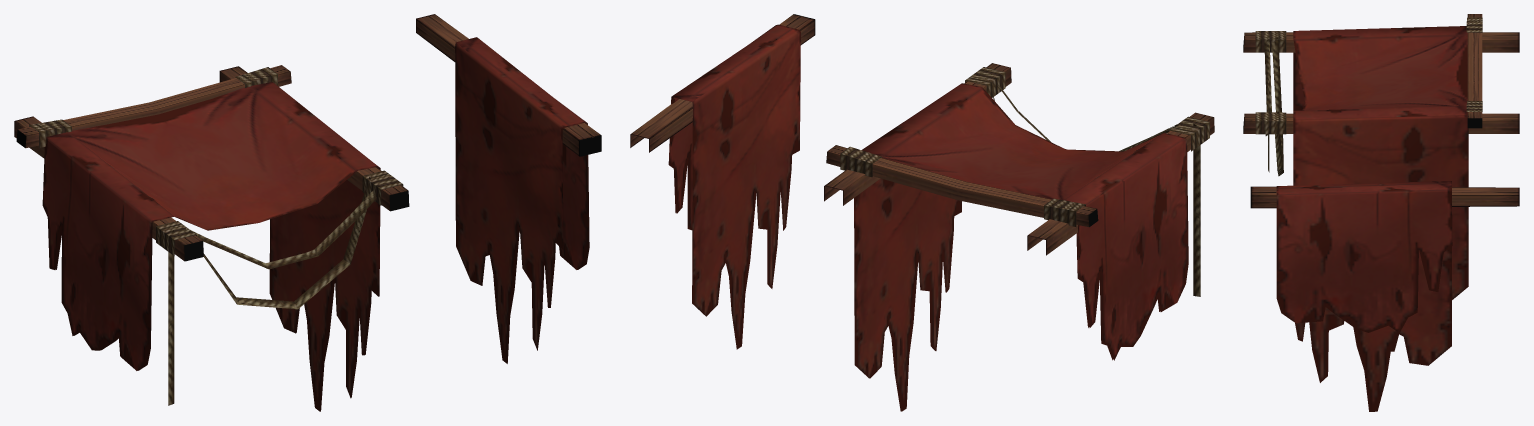
The model's file is 2_LDZC_Bu_01.FBX.
The picture shows the model from 3 angles, left to right: view 1: azimuth 30°, elevation 25°; view 2: azimuth 150°, elevation 25°; view 3: azimuth 270°, elevation 25°; orthographic projection. The views are drawn at different scales.
Visible parts, largest first — view 1: 2_LDZC_Bu_01, 2_LDZC_Bu_02; view 2: 2_LDZC_Bu_01, 2_LDZC_Bu_02; view 3: 2_LDZC_Bu_01, 2_LDZC_Bu_02.
Boxes of the visible parts, left/top/right/bottom form: 2_LDZC_Bu_01: left=14, top=65, right=409, bottom=411; 2_LDZC_Bu_02: left=416, top=14, right=601, bottom=363; 2_LDZC_Bu_01: left=824, top=63, right=1214, bottom=411; 2_LDZC_Bu_02: left=630, top=14, right=815, bottom=349; 2_LDZC_Bu_01: left=1243, top=14, right=1519, bottom=351; 2_LDZC_Bu_02: left=1250, top=181, right=1519, bottom=411.
Bounding box in the file's own units: 711 × 455 × 470.
